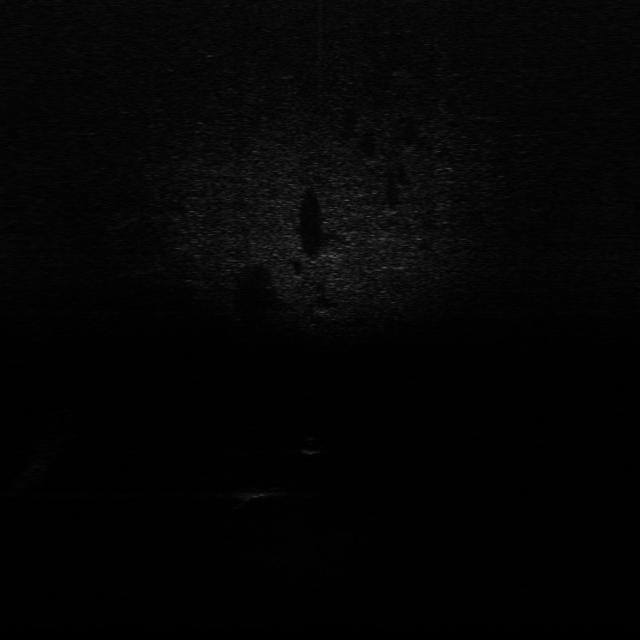ball: (290, 435, 326, 455)
square cage: (232, 483, 287, 502)
